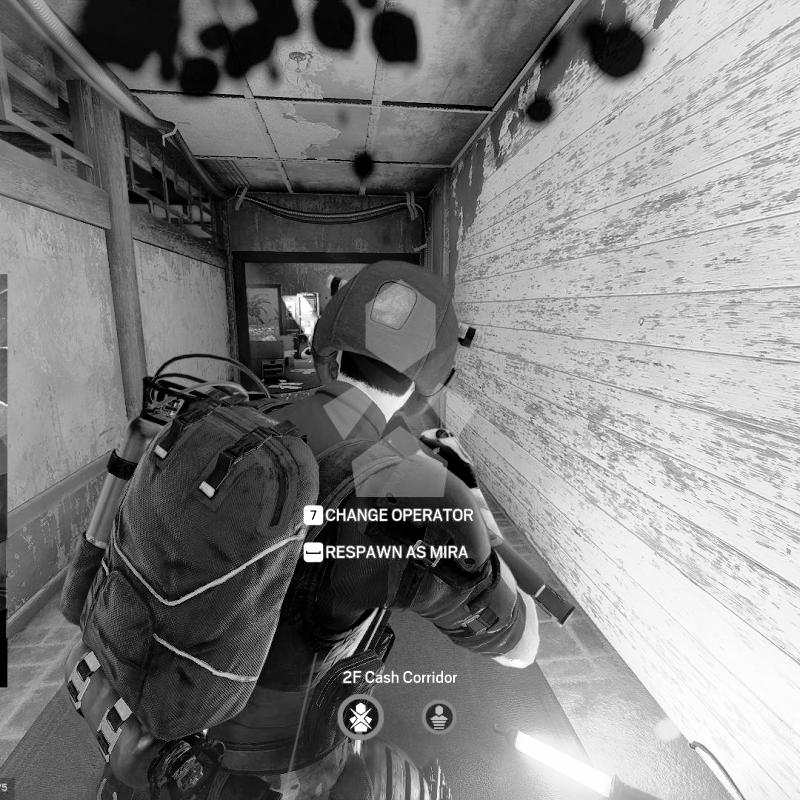Character: (58, 258, 545, 800)
Head: (308, 259, 480, 431)
